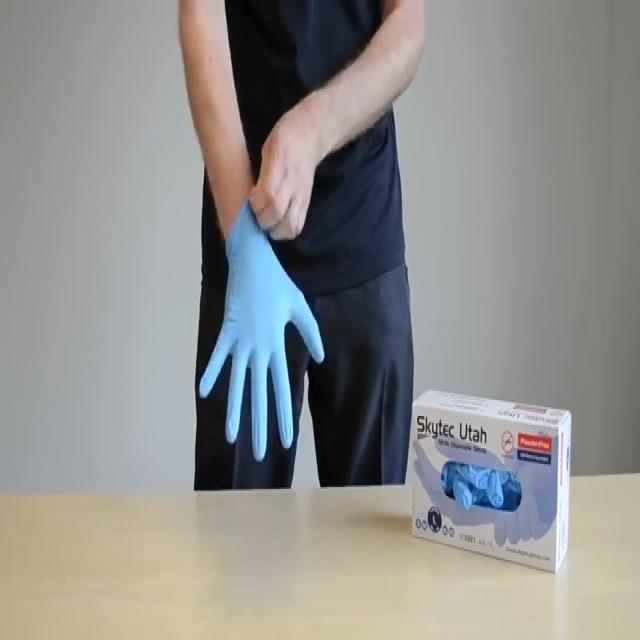Gloves: (201, 191, 326, 461)
